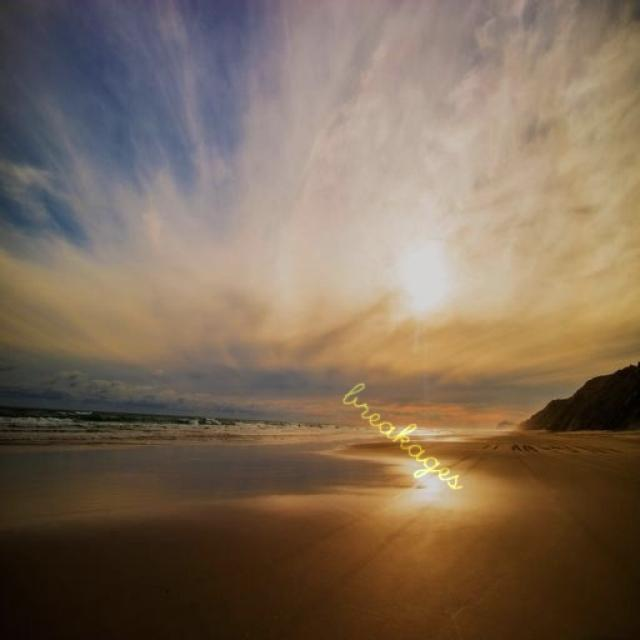watermark: (332, 371, 484, 499)
